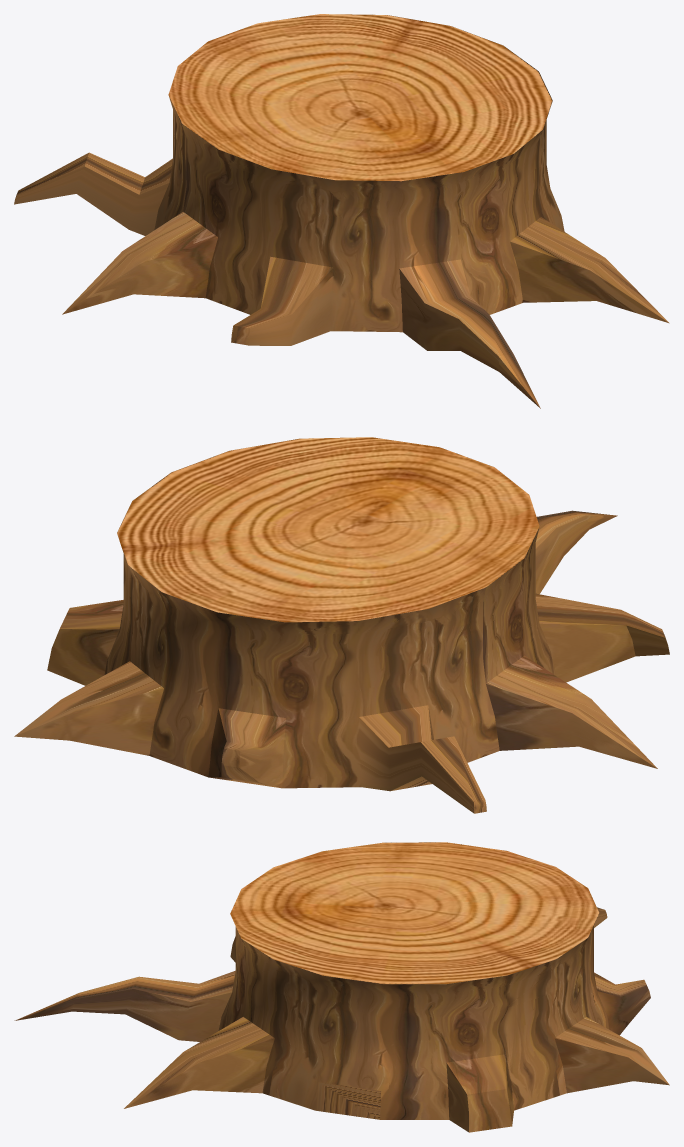
File: SHU.FBX
3 renders of one model, top to bottom at view 1: azimuth 30°, elevation 25°; view 2: azimuth 150°, elevation 25°; view 3: azimuth 270°, elevation 25°, orthographic. The views are drawn at different scales.
Visible parts, largest first — view 1: Cylinder001; view 2: Cylinder001; view 3: Cylinder001.
Part boxes in pixels (left/top/right/bottom): Cylinder001: left=14, top=14, right=669, bottom=408; Cylinder001: left=14, top=437, right=669, bottom=813; Cylinder001: left=14, top=842, right=669, bottom=1132.
Size of the model in its own units: 57.77 by 15.78 by 70.5.
